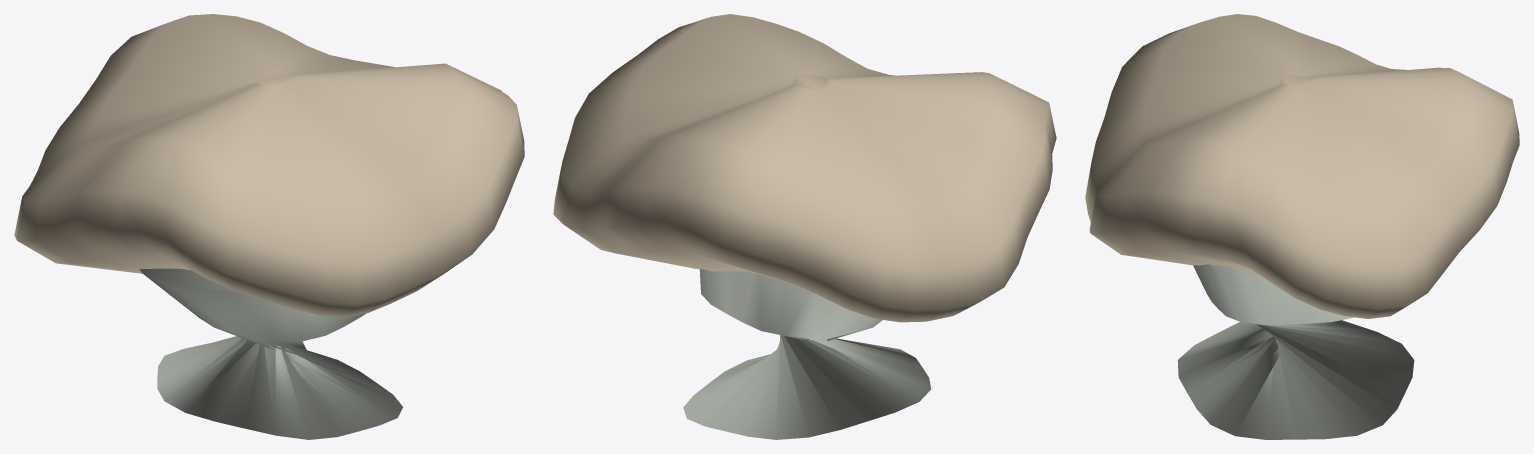
File: hero-boulder-3.glb
3 renders of one model, left to right at view 1: azimuth 30°, elevation 25°; view 2: azimuth 150°, elevation 25°; view 3: azimuth 270°, elevation 25°, orthographic. The views are drawn at different scales.
Parts seen in each view (by area): view 1: Undercut weathered stone cap.003, Eroded limestone pedestal.003; view 2: Undercut weathered stone cap.003, Eroded limestone pedestal.003; view 3: Undercut weathered stone cap.003, Eroded limestone pedestal.003.
Part boxes in pixels (left/top/right/bottom): Undercut weathered stone cap.003: left=14, top=14, right=524, bottom=317; Eroded limestone pedestal.003: left=140, top=268, right=402, bottom=439; Undercut weathered stone cap.003: left=553, top=14, right=1056, bottom=322; Eroded limestone pedestal.003: left=683, top=269, right=931, bottom=439; Undercut weathered stone cap.003: left=1085, top=14, right=1519, bottom=318; Eroded limestone pedestal.003: left=1177, top=264, right=1414, bottom=439.
Size of the model in its own units: 0.0662 by 0.0459 by 0.0576.
